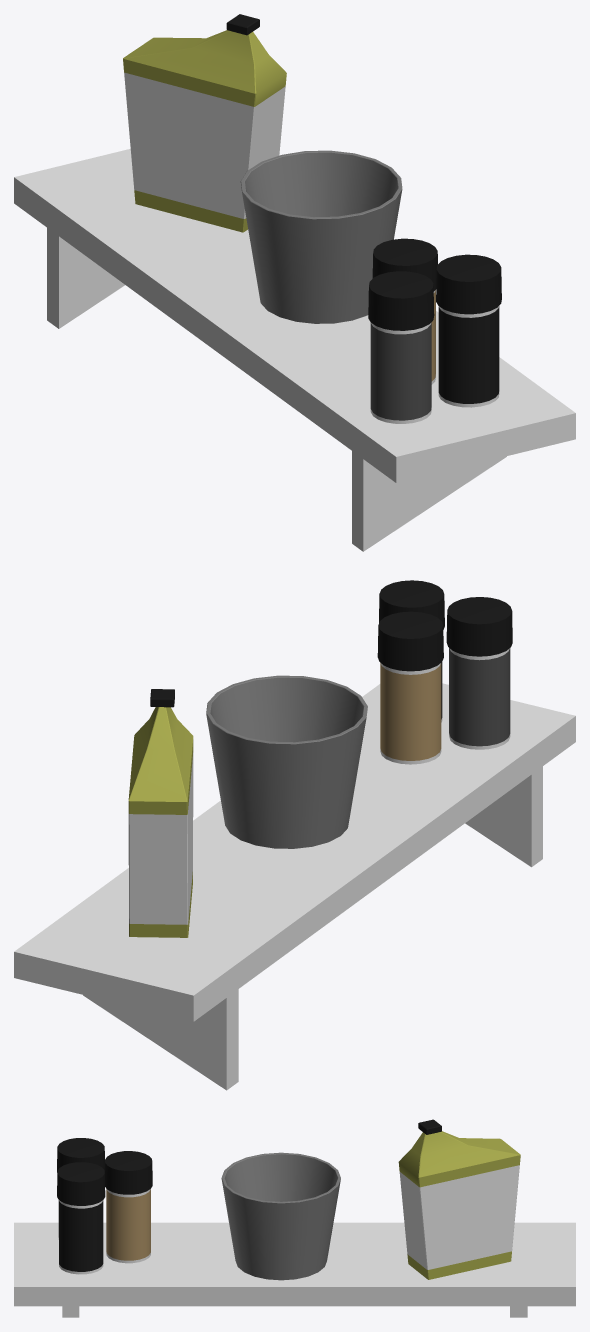
The model's file is Proto_ShelfJunk_01.fbx.
The picture shows the model from 3 angles, top to bottom: view 1: azimuth 30°, elevation 25°; view 2: azimuth 150°, elevation 25°; view 3: azimuth 270°, elevation 25°; orthographic projection. The views are drawn at different scales.
Parts seen in each view (by area): view 1: ShelfJunk; view 2: ShelfJunk; view 3: ShelfJunk.
Part boxes in pixels (<box>): ShelfJunk: <box>14,14,575,551</box>; ShelfJunk: <box>14,580,575,1090</box>; ShelfJunk: <box>14,1119,575,1317</box>.
Size of the model in its own units: 1 by 1.68 by 3.68.
